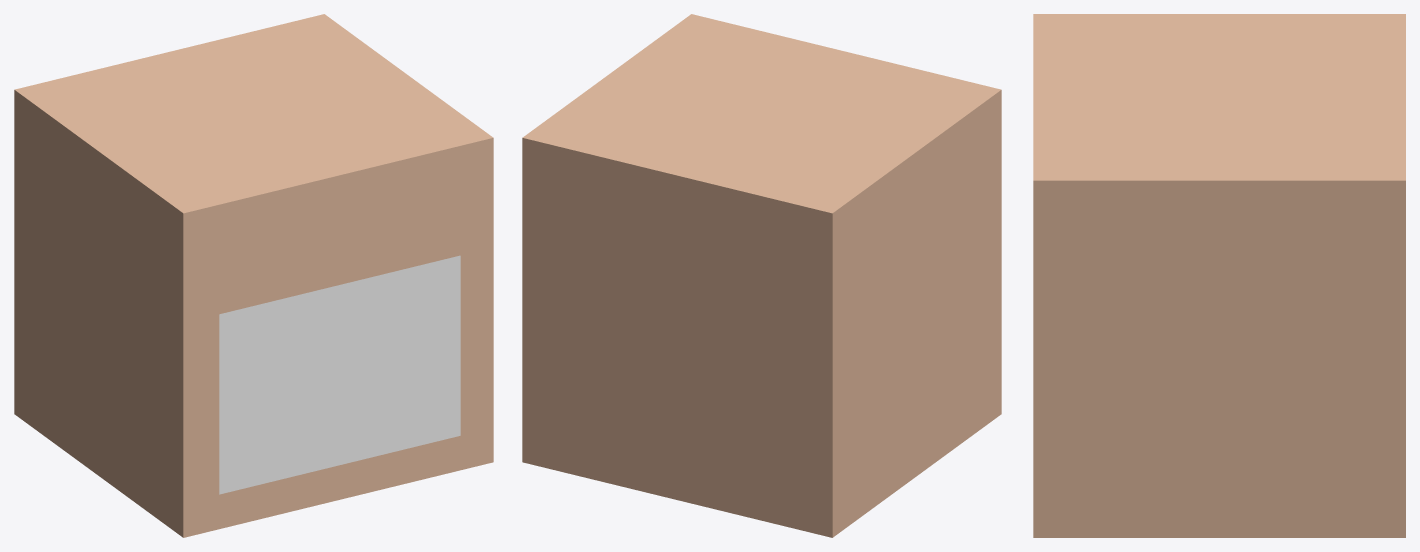
The model's file is cabeca_humano.glb.
3 renders of one model, left to right at view 1: azimuth 30°, elevation 25°; view 2: azimuth 150°, elevation 25°; view 3: azimuth 270°, elevation 25°, orthographic. The views are drawn at different scales.
Parts seen in each view (by area): view 1: cabeca_humano, rosto; view 2: cabeca_humano; view 3: cabeca_humano.
Part boxes in pixels (box(x1,y1,x2,y2)): cabeca_humano: box(14, 14, 493, 537); rosto: box(219, 255, 460, 494); cabeca_humano: box(522, 14, 1001, 537); cabeca_humano: box(1033, 14, 1405, 537).
Bounding box in the file's own units: 0.36 × 0.36 × 0.343.
